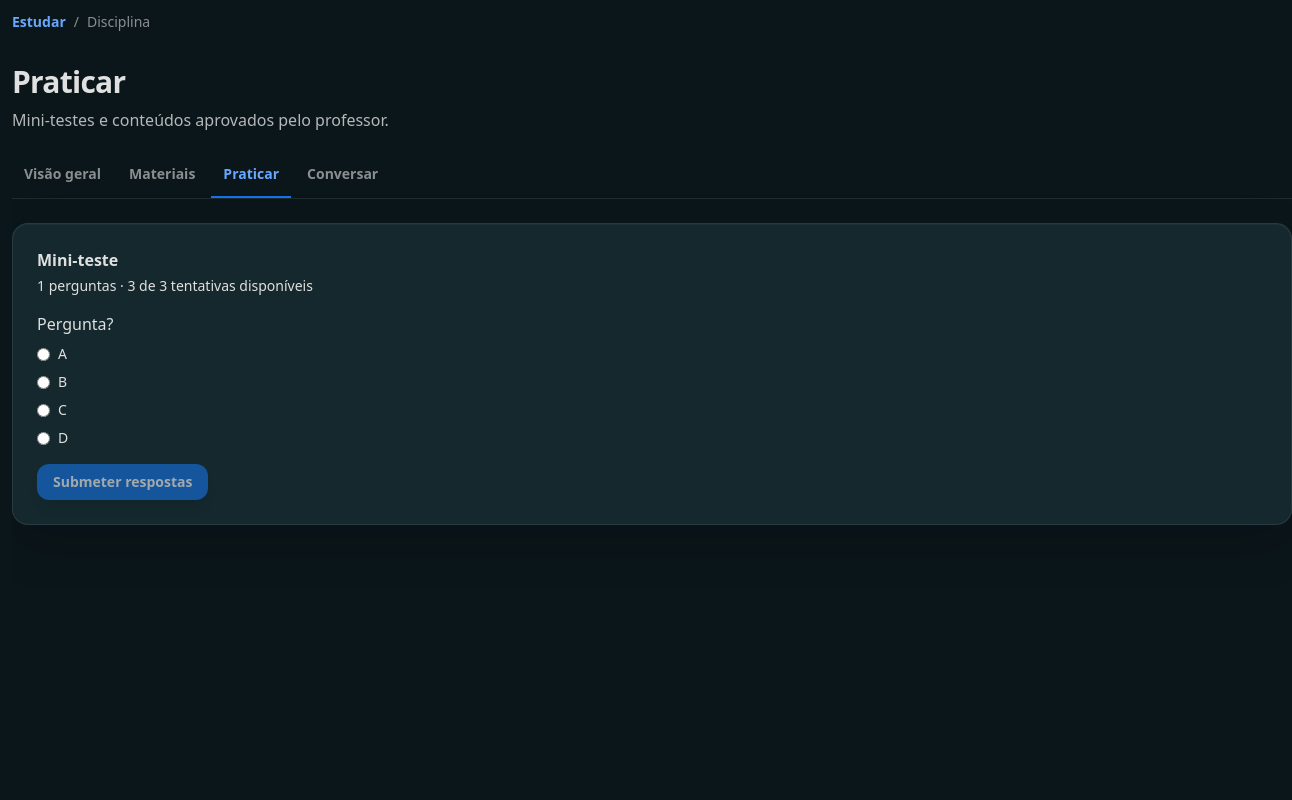
OfficialTestAttemptPage › isola erro de submissão sem substituir a lista já carregada
Step 1. Click the radio button labelled "A" → coordinates (44, 354), box [37,348,50,360]
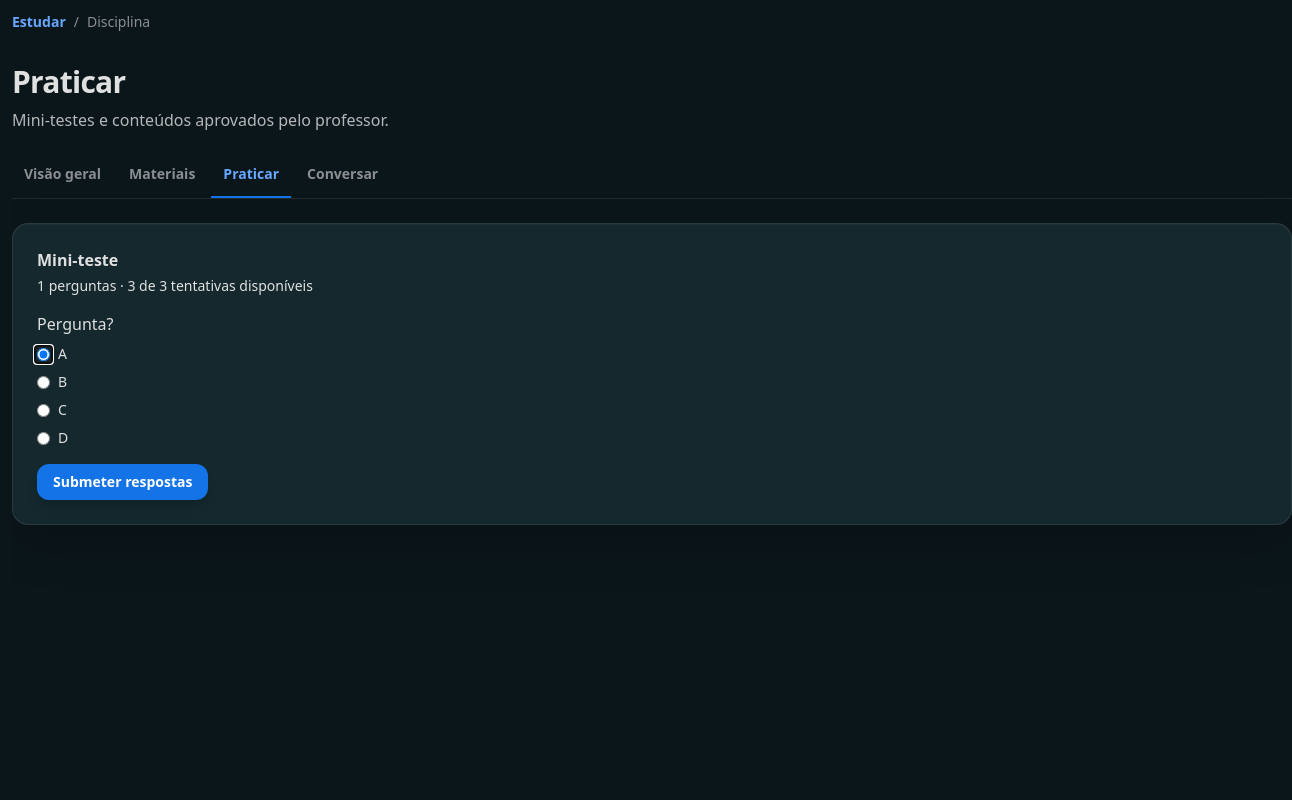
Step 2. Click the button "Submeter respostas" → coordinates (123, 482), box [37,464,208,500]
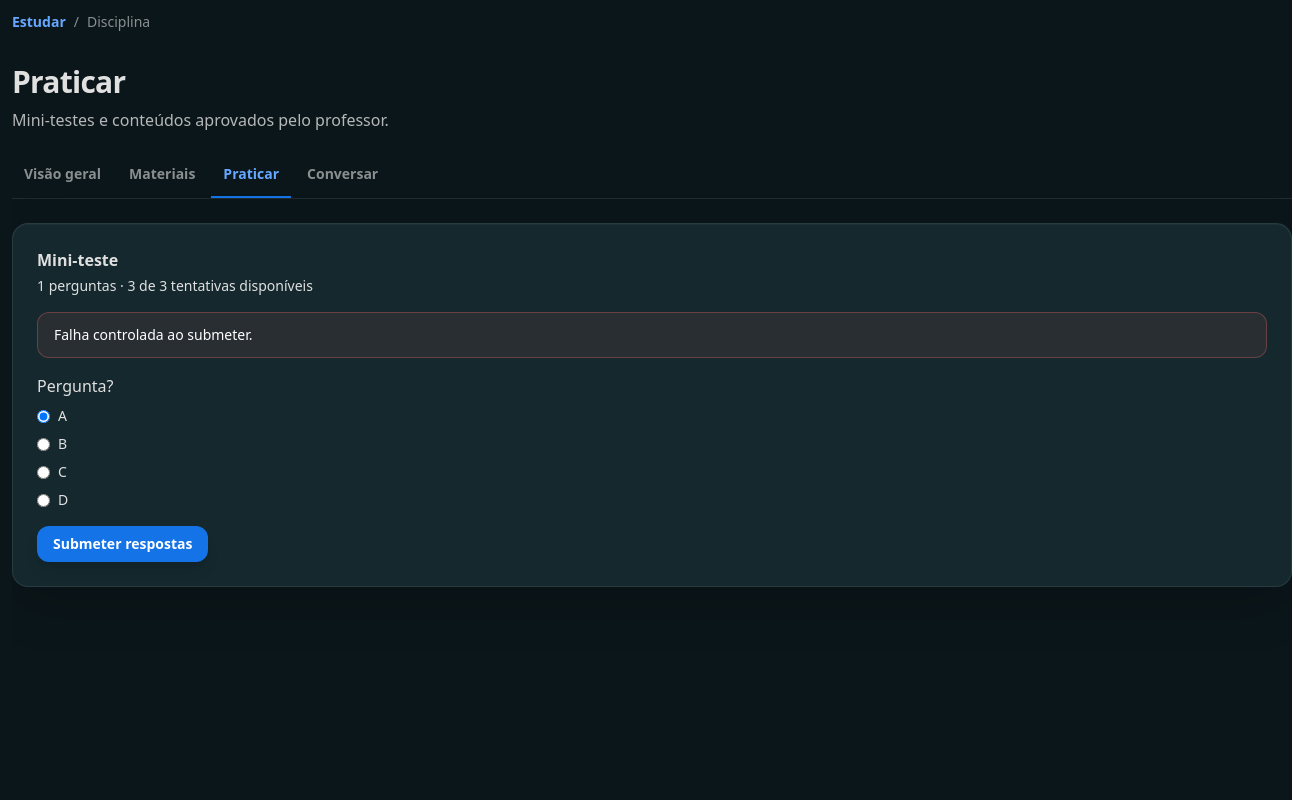
Expected: the heading "Mini-teste" is shown, [37,249,118,271]
Now the message reads "Falha controlada ao submeter.", box [54,325,252,344]
